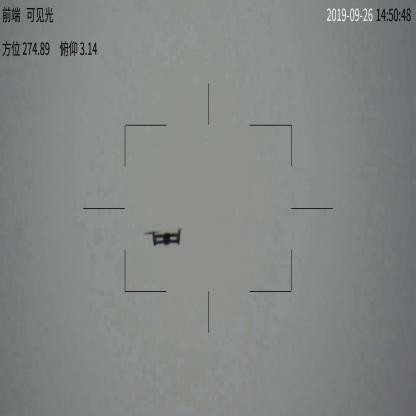uav: (145, 228, 189, 249)
